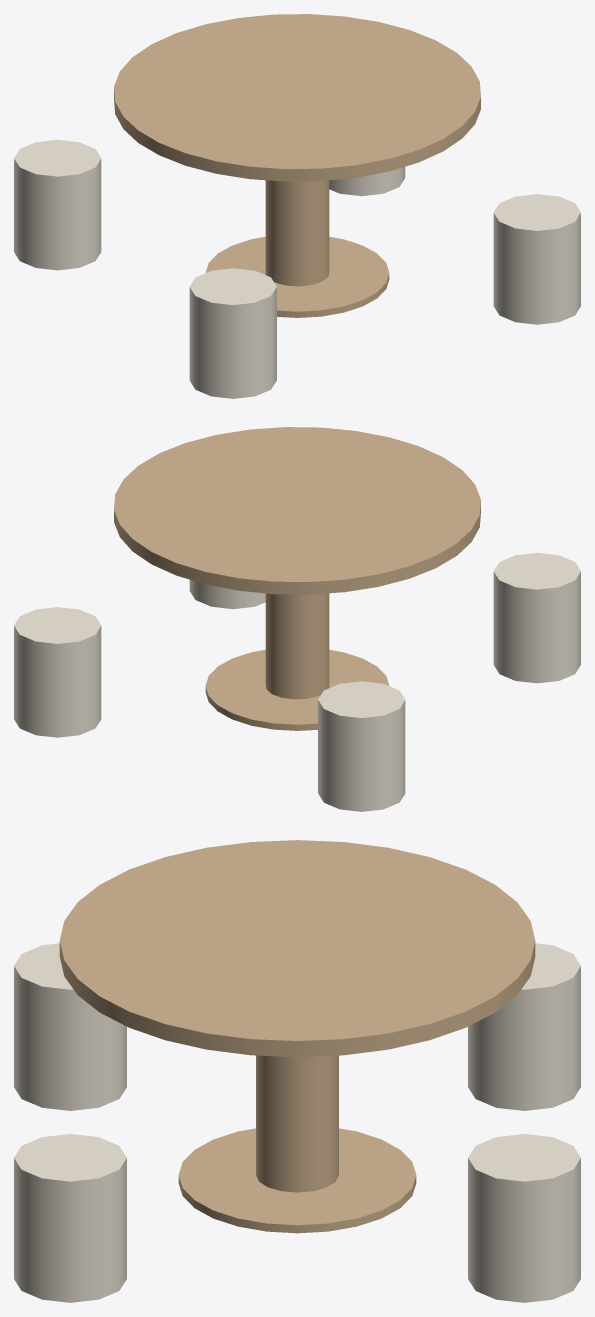
File: apple_genius_table.glb
3 views of the same model, one above another, from view 1: azimuth 30°, elevation 25°; view 2: azimuth 150°, elevation 25°; view 3: azimuth 270°, elevation 25° (orthographic). The views are drawn at different scales.
Parts seen in each view (by area): view 1: apple_genius_table; view 2: apple_genius_table; view 3: apple_genius_table.
Part boxes in pixels (x1,y1,x2,y2): apple_genius_table: [14, 14, 580, 398]; apple_genius_table: [14, 427, 580, 811]; apple_genius_table: [14, 840, 580, 1302].
Bounding box in the file's own units: 1.91 × 0.9 × 1.91.
